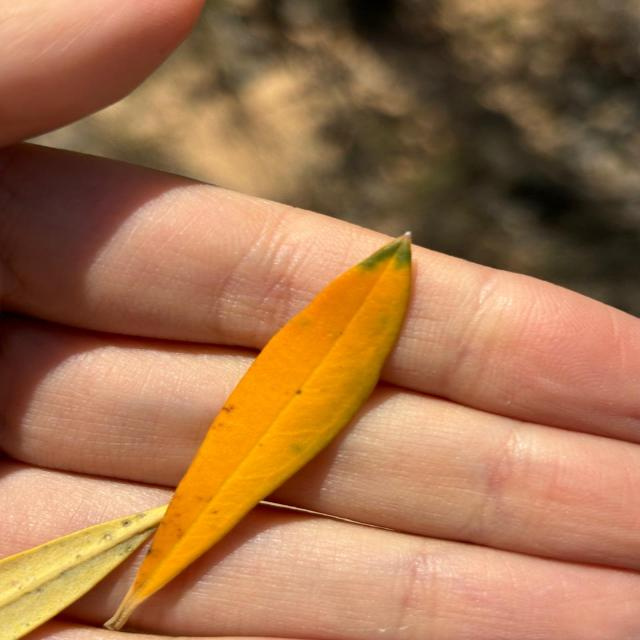Peacock Eye: (105, 233, 411, 630)
